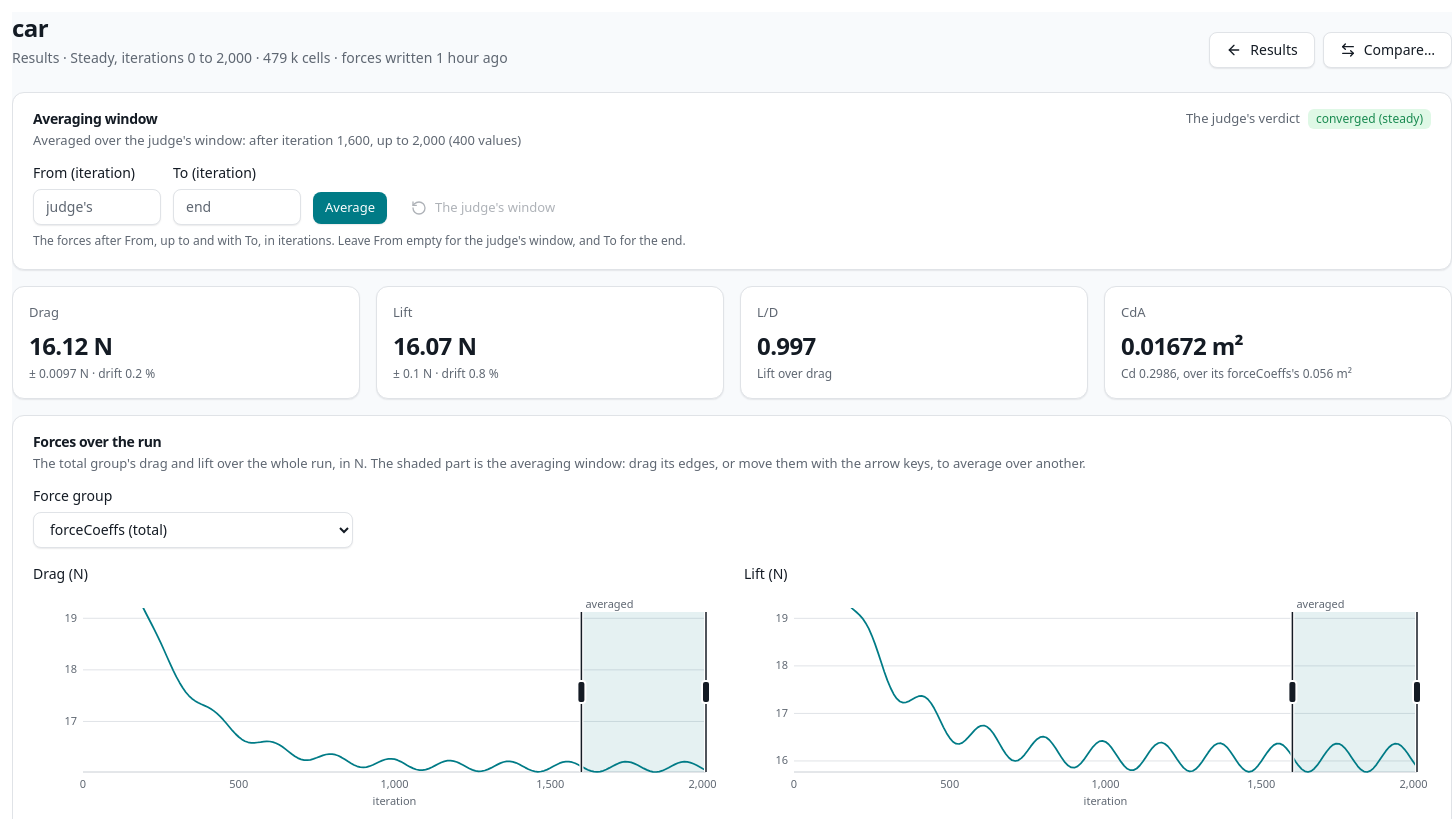
it: a case's results › charts its total group's drag and lift over the run with the window shaded, and another group's when picked
Expected: the picture named "Drag of forceCoeffs over the run, in N" is shown, [33,588,720,808]
Expected: the picture named "Lift of forceCoeffs over the run, in N" is shown, [744,588,1431,808]
Select "mirrors" in the dropdown labelled "Force group": [193, 530] box [33,512,353,548]
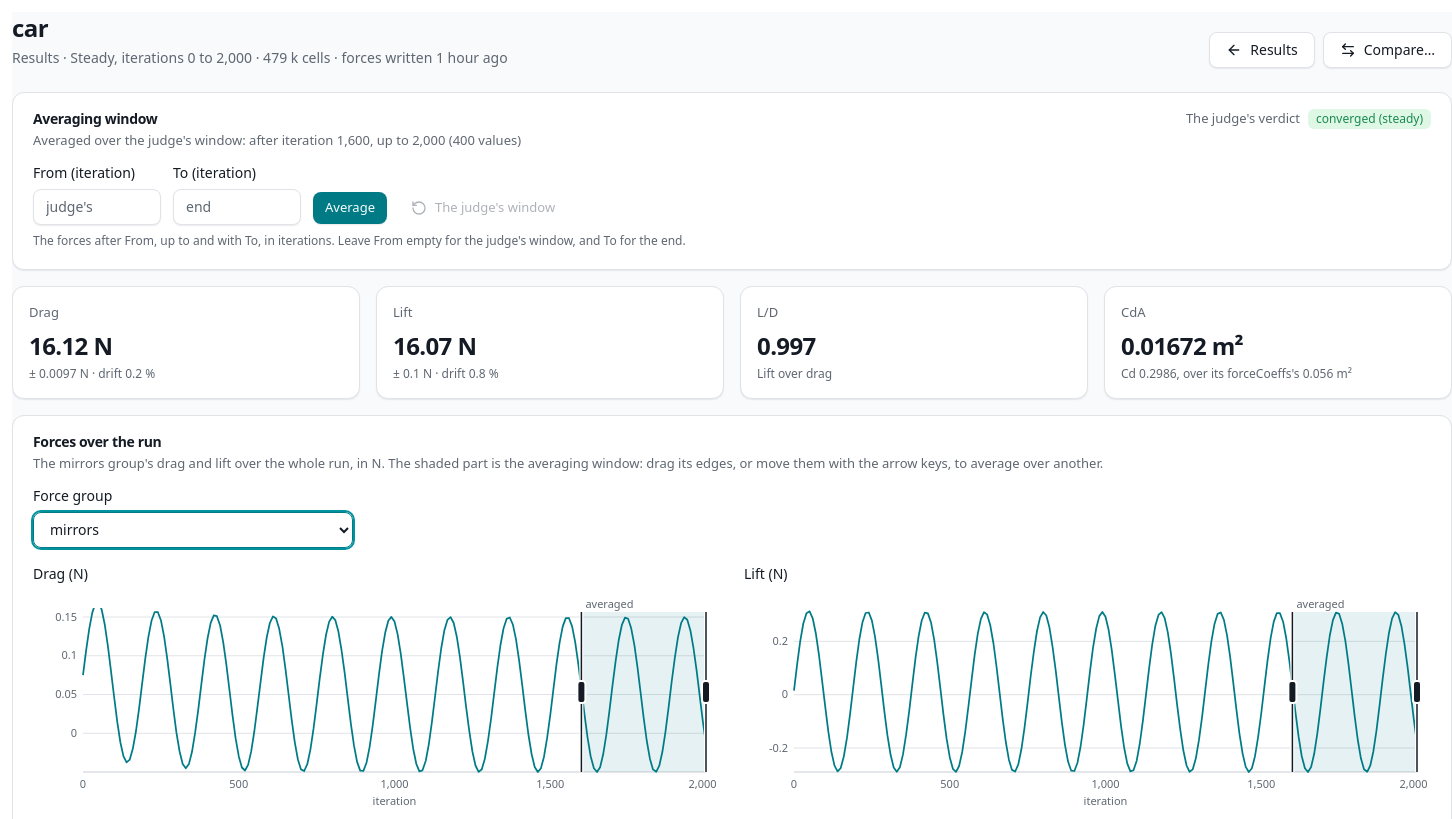
Expected: the picture named "Drag of mirrors over the run, in N" is shown, [33,588,720,808]
Expected: the text "The mirrors group's drag and lift" is shown, [33,454,1103,472]
